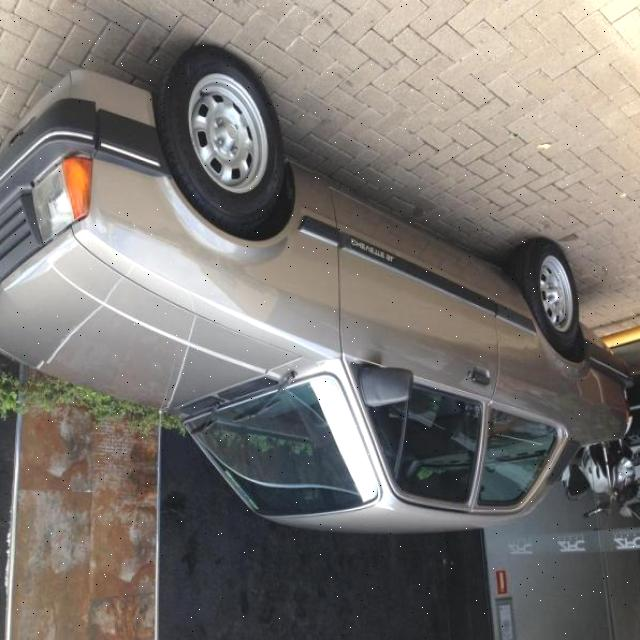car: (0, 43, 637, 524)
